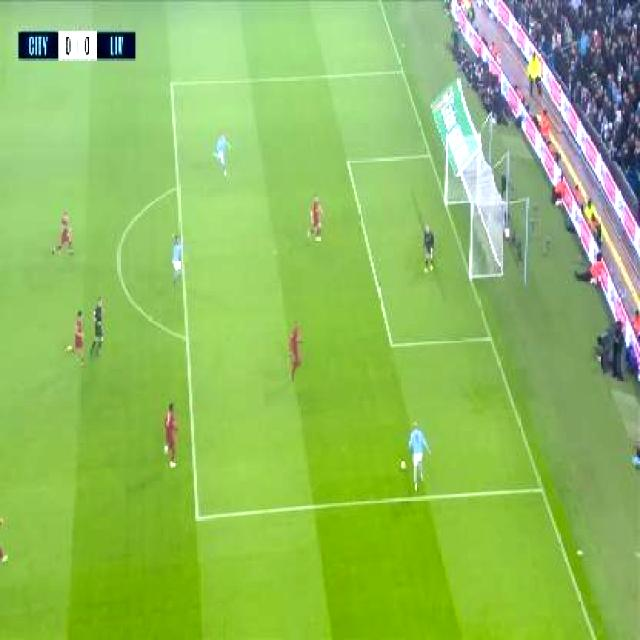bigarea_bottom_inner: (191, 506, 203, 525)
bigarea_bottom_outter: (536, 481, 546, 497)
bigarea_top_inner: (166, 76, 177, 92)
bigarea_top_outter: (397, 64, 405, 76)
bottom_arc_area_intersection: (182, 329, 190, 346)
corner: (374, 2, 384, 8)
smallarea_bottom_inner: (384, 332, 398, 354)
smallarea_bottom_outter: (482, 328, 496, 346)
smallarea_top_inner: (343, 152, 352, 168)
smallarea_top_outter: (421, 146, 434, 163)
top_arc_area_intersection: (171, 178, 183, 196)
